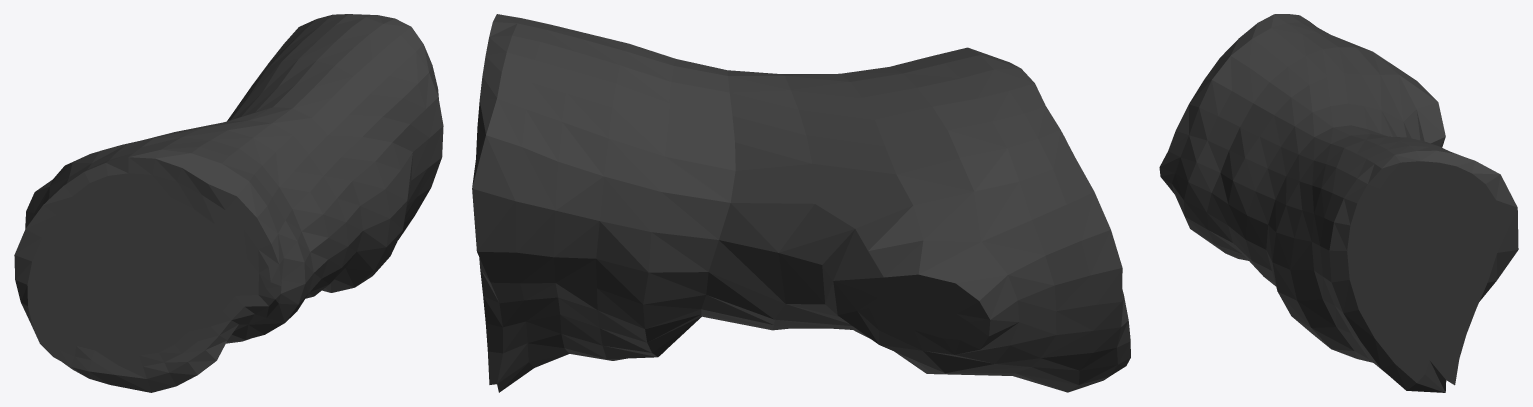
Rendered from Right_principal_bronchus.glb.
3 renders of one model, left to right at view 1: azimuth 30°, elevation 25°; view 2: azimuth 150°, elevation 25°; view 3: azimuth 270°, elevation 25°, orthographic. The views are drawn at different scales.
Visible parts, largest first — view 1: Right_principal_bronchus; view 2: Right_principal_bronchus; view 3: Right_principal_bronchus.
Boxes of the visible parts, x1,y1,x2,y2 form: Right_principal_bronchus: [14, 14, 443, 392]; Right_principal_bronchus: [472, 14, 1130, 392]; Right_principal_bronchus: [1159, 14, 1518, 392].
Bounding box in the file's own units: 1.21 × 0.6549 × 0.8715.
1 material, 1 textured.
